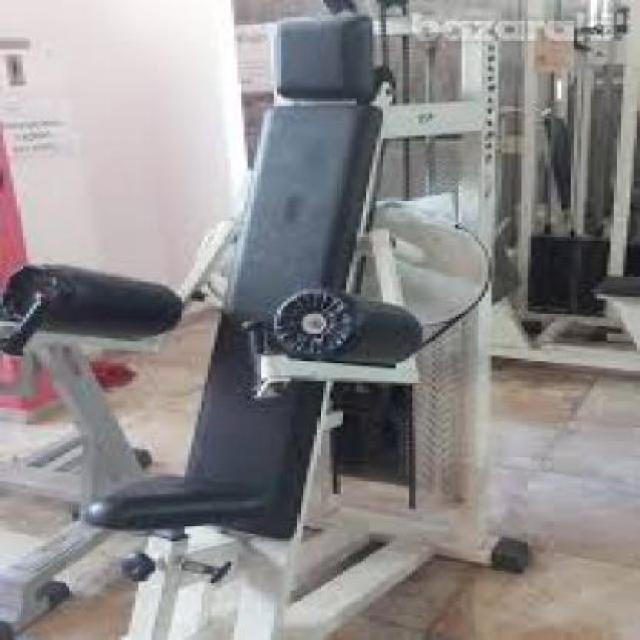lateral raises machine: (0, 95, 512, 639)
